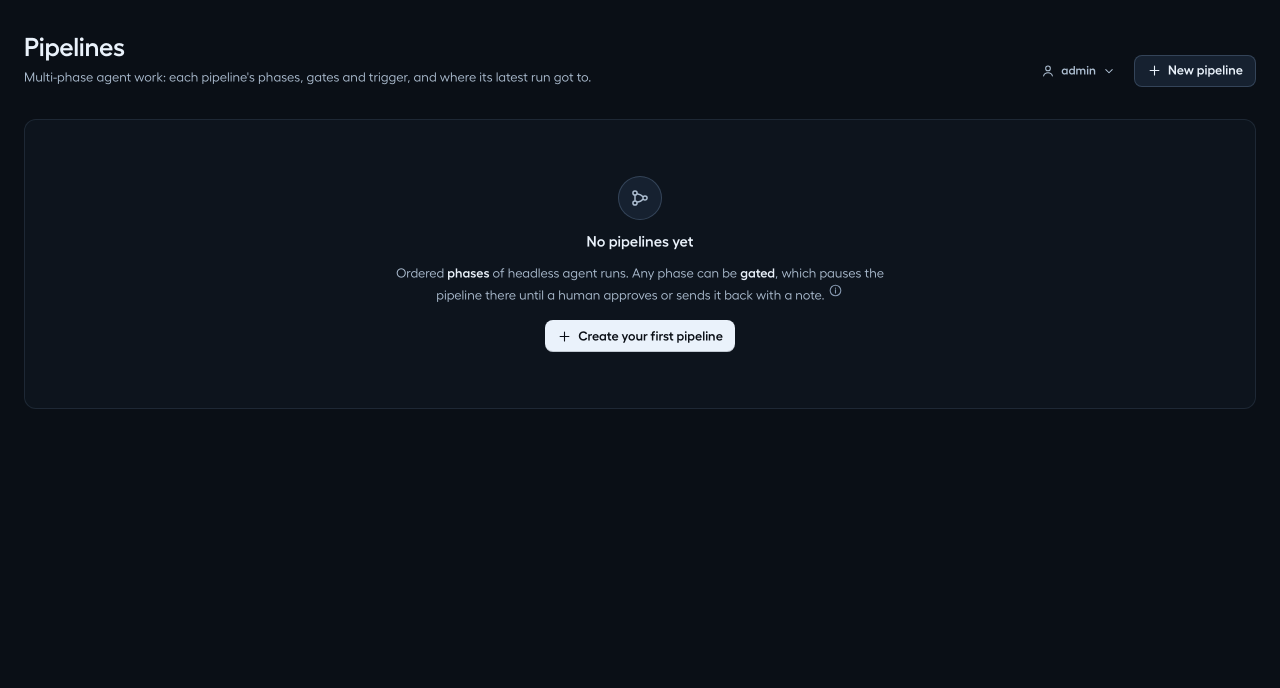
Pipelines tab › opens the form when '+ New pipeline' is clicked
Expected: the text "No pipelines yet" is shown, [587, 232, 694, 252]
Click the button "New pipeline" at (1195, 71), box [1134, 55, 1256, 87]
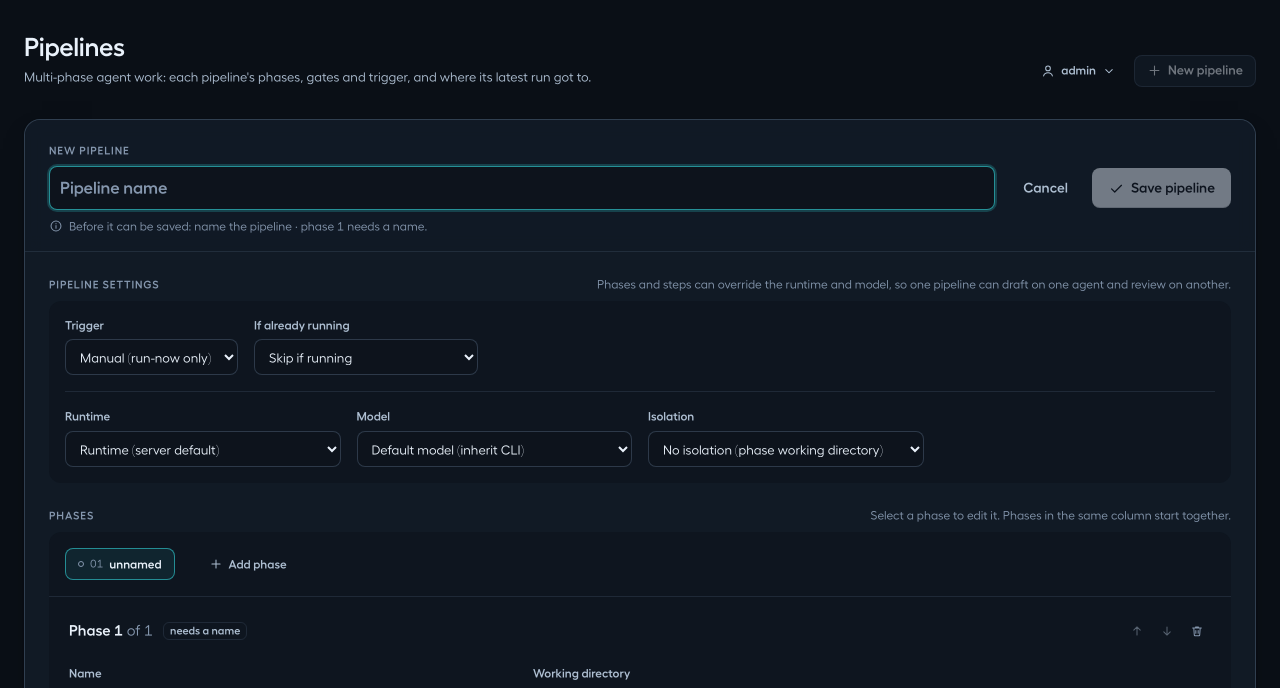
Expected: the field with placeholder "Pipeline name" is shown, [49, 166, 995, 210]
